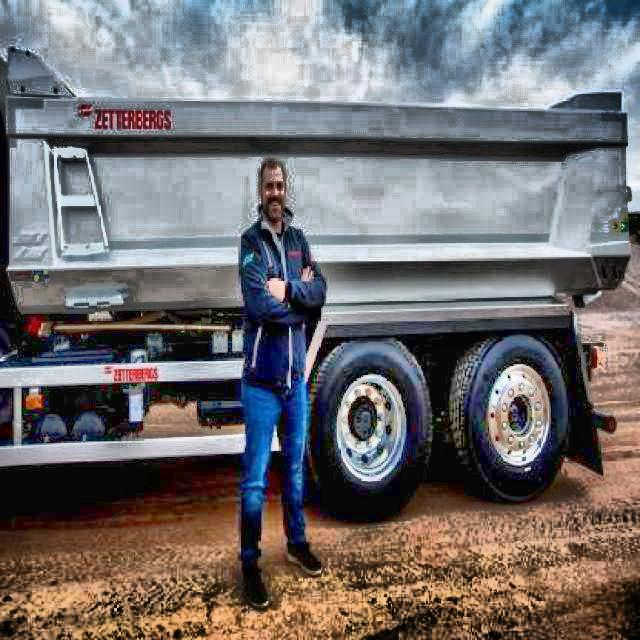dump_truck: (0, 0, 631, 523)
